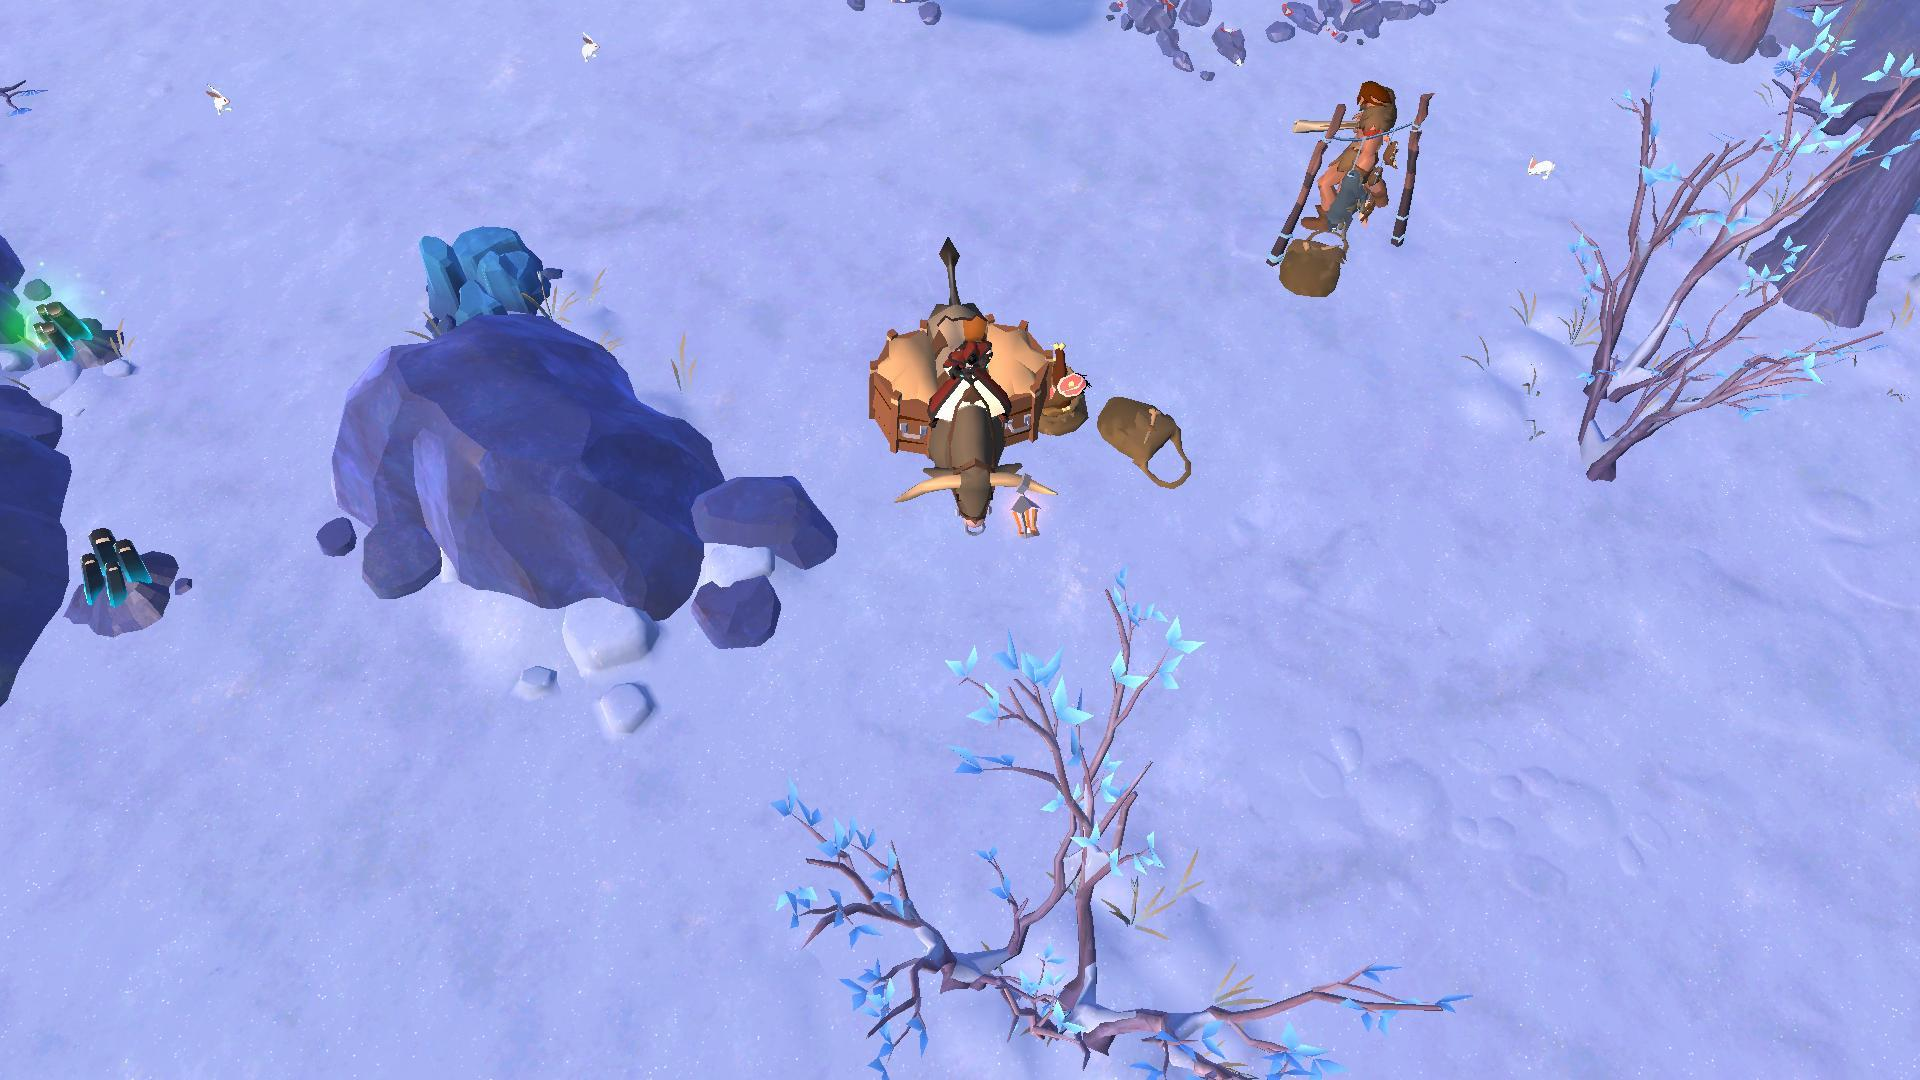enemy_factionKeeper: (1302, 79, 1412, 239)
ore_t4: (78, 524, 148, 618), (28, 295, 86, 365)
rock_t4: (405, 218, 558, 339)
rock_t5: (1659, 0, 1796, 69)
